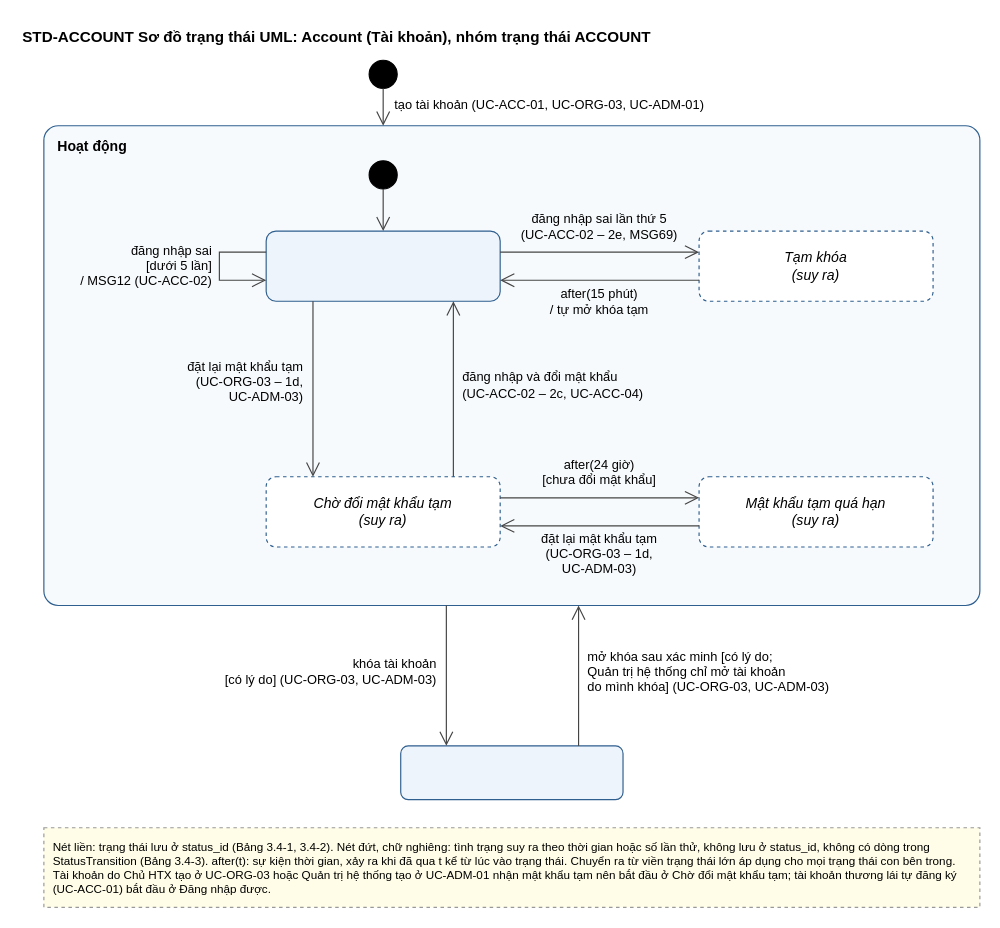
Some shapes in this 1000 by 928 pixel diagram are drawn without their labels. The shapes that lost their labels are listed below. From the top down, each one's centre as x and y in pixels, then its label:
At point (382, 265): "Đăng nhập được".
At point (511, 772): "Đã khóa".
